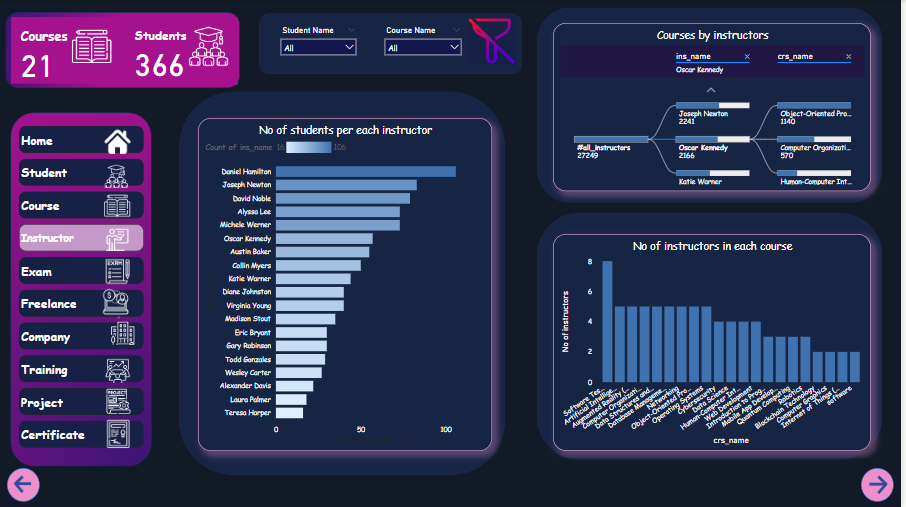

What the dashboard file says about the page in this screenshot:
{"tool":"powerbi","page":{"name":"Instructor","canvas":[1600,900],"ordinal":9},"visuals":[{"type":"clusteredBarChart","title":"No of students per each instructor","fields":{"Category":["Fact_table.ins_name"],"Y":["CountNonNull(Fact_table.student_id_fk)"]},"box":[356.1,209.1,520.9,590],"z":0},{"type":"decompositionTreeVisual","title":"Courses by instructors","fields":{"Analyze":["Sum(Fact_table.ins_id_bk)"],"ExplainBy":["Fact_table.ins_name","Fact_table.crs_name"]},"box":[985,40.7,563.4,297.6],"z":1000},{"type":"slicer","fields":{"Values":["Fact_table.crs_name"]},"box":[676.8,40.7,155.9,72.6],"z":2000},{"type":"slicer","fields":{"Values":["Dim_Student.st_fname"]},"box":[492.5,40.7,154.1,72.6],"z":3000},{"type":"actionButton","box":[832.7,30.1,86.8,85],"z":4000},{"type":"cardVisual","fields":{"Data":["Count(Dim_Student.st_id_sk)"]},"box":[226.8,30.1,200.2,120.5],"z":5000},{"type":"clusteredColumnChart","title":"No of instructors in each course","fields":{"Category":["Fact_table.crs_name"],"Y":["Count(Fact_table.ins_id_bk)"]},"box":[985,414.6,563.4,384.4],"z":6000},{"type":"pageNavigator","box":[39,223.2,221.5,575.8],"z":7000},{"type":"image","box":[173.9,222.8,79.7,56.2],"z":8000},{"type":"image","box":[172.1,286.2,79.7,50.7],"z":9000},{"type":"image","box":[179.3,400.3,68.8,48.9],"z":10000},{"type":"image","box":[181.1,449.2,65.2,61.6],"z":11000},{"type":"image","box":[170.3,336.9,85.1,56.2],"z":12000},{"type":"image","box":[175.7,507.2,70.6,56.2],"z":13000},{"type":"image","box":[208.3,536.2,12.7,50.7],"z":14000},{"type":"image","box":[179.3,630.3,70.6,54.3],"z":15000},{"type":"image","box":[164.8,739,99.6,59.8],"z":16000},{"type":"image","box":[175.7,684.7,79.7,54.3],"z":17000},{"type":"image","box":[192,565.1,63.4,50.7],"z":18000},{"type":"group","id":"g1","title":"Group 1","box":[1530.6,829.6,58,59.8],"z":19000},{"type":"shape","box":[1530.6,829.6,58,59.8],"z":19000,"group":"g1"},{"type":"cardVisual","fields":{"Data":["Count(Fact_table.crs_id_bk)"]},"box":[25.4,30.8,195.6,117.7],"z":20000},{"type":"actionButton","box":[1539.7,838.7,48.9,41.7],"z":20000,"group":"g1"},{"type":"shape","box":[18.1,829.6,58,59.8],"z":20500,"group":"g2"},{"type":"group","id":"g2","title":"Group 2","box":[18.1,829.6,61.6,59.8],"z":21000},{"type":"actionButton","box":[27.2,838.7,52.5,39.8],"z":21000,"group":"g2"}]}

Visuals, with their boxes in screenshot pixels (x1, y1, x2, y2), scaled from the page's 1600x900 canvas onto the 906x507 screenshot:
"No of students per each instructor" clusteredBarChart: BBox(202, 118, 497, 450)
"Courses by instructors" decompositionTreeVisual: BBox(558, 23, 877, 191)
slicer - Fact_table.crs_name: BBox(383, 23, 472, 64)
slicer - Dim_Student.st_fname: BBox(279, 23, 366, 64)
actionButton: BBox(472, 17, 521, 65)
cardVisual - Count(Dim_Student.st_id_sk): BBox(128, 17, 242, 85)
"No of instructors in each course" clusteredColumnChart: BBox(558, 234, 877, 450)
pageNavigator: BBox(22, 126, 148, 450)
image: BBox(98, 126, 144, 157)
image: BBox(97, 161, 143, 190)
image: BBox(102, 226, 140, 253)
image: BBox(103, 253, 139, 288)
image: BBox(96, 190, 145, 221)
image: BBox(99, 286, 139, 317)
image: BBox(118, 302, 125, 331)
image: BBox(102, 355, 142, 386)
image: BBox(93, 416, 150, 450)
image: BBox(99, 386, 145, 416)
image: BBox(109, 318, 145, 347)
"Group 1" group: BBox(867, 467, 900, 501)
shape: BBox(867, 467, 900, 501)
cardVisual - Count(Fact_table.crs_id_bk): BBox(14, 17, 125, 84)
actionButton: BBox(872, 472, 900, 496)
shape: BBox(10, 467, 43, 501)
"Group 2" group: BBox(10, 467, 45, 501)
actionButton: BBox(15, 472, 45, 495)
